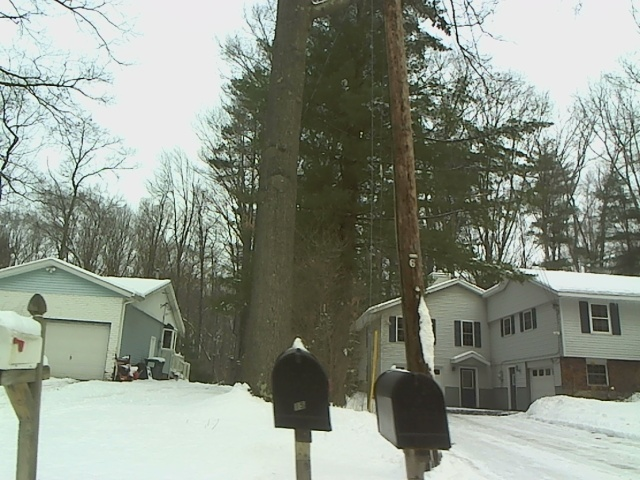Unploughed: (460, 406, 635, 476)
